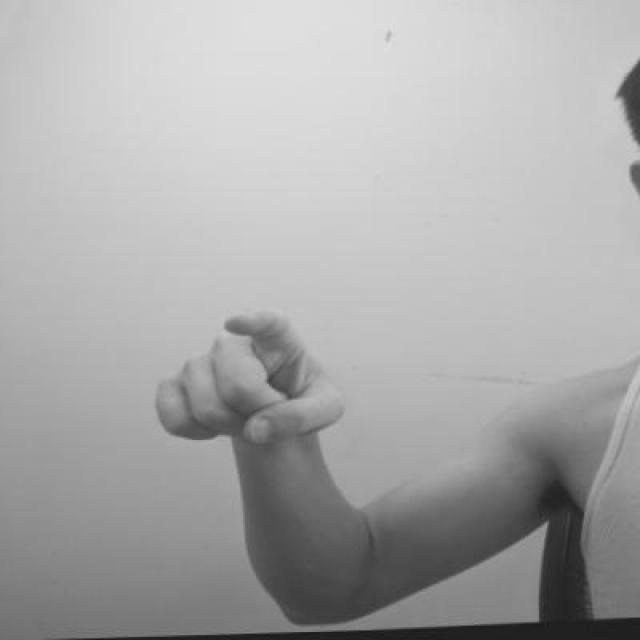Z: (147, 302, 355, 453)
